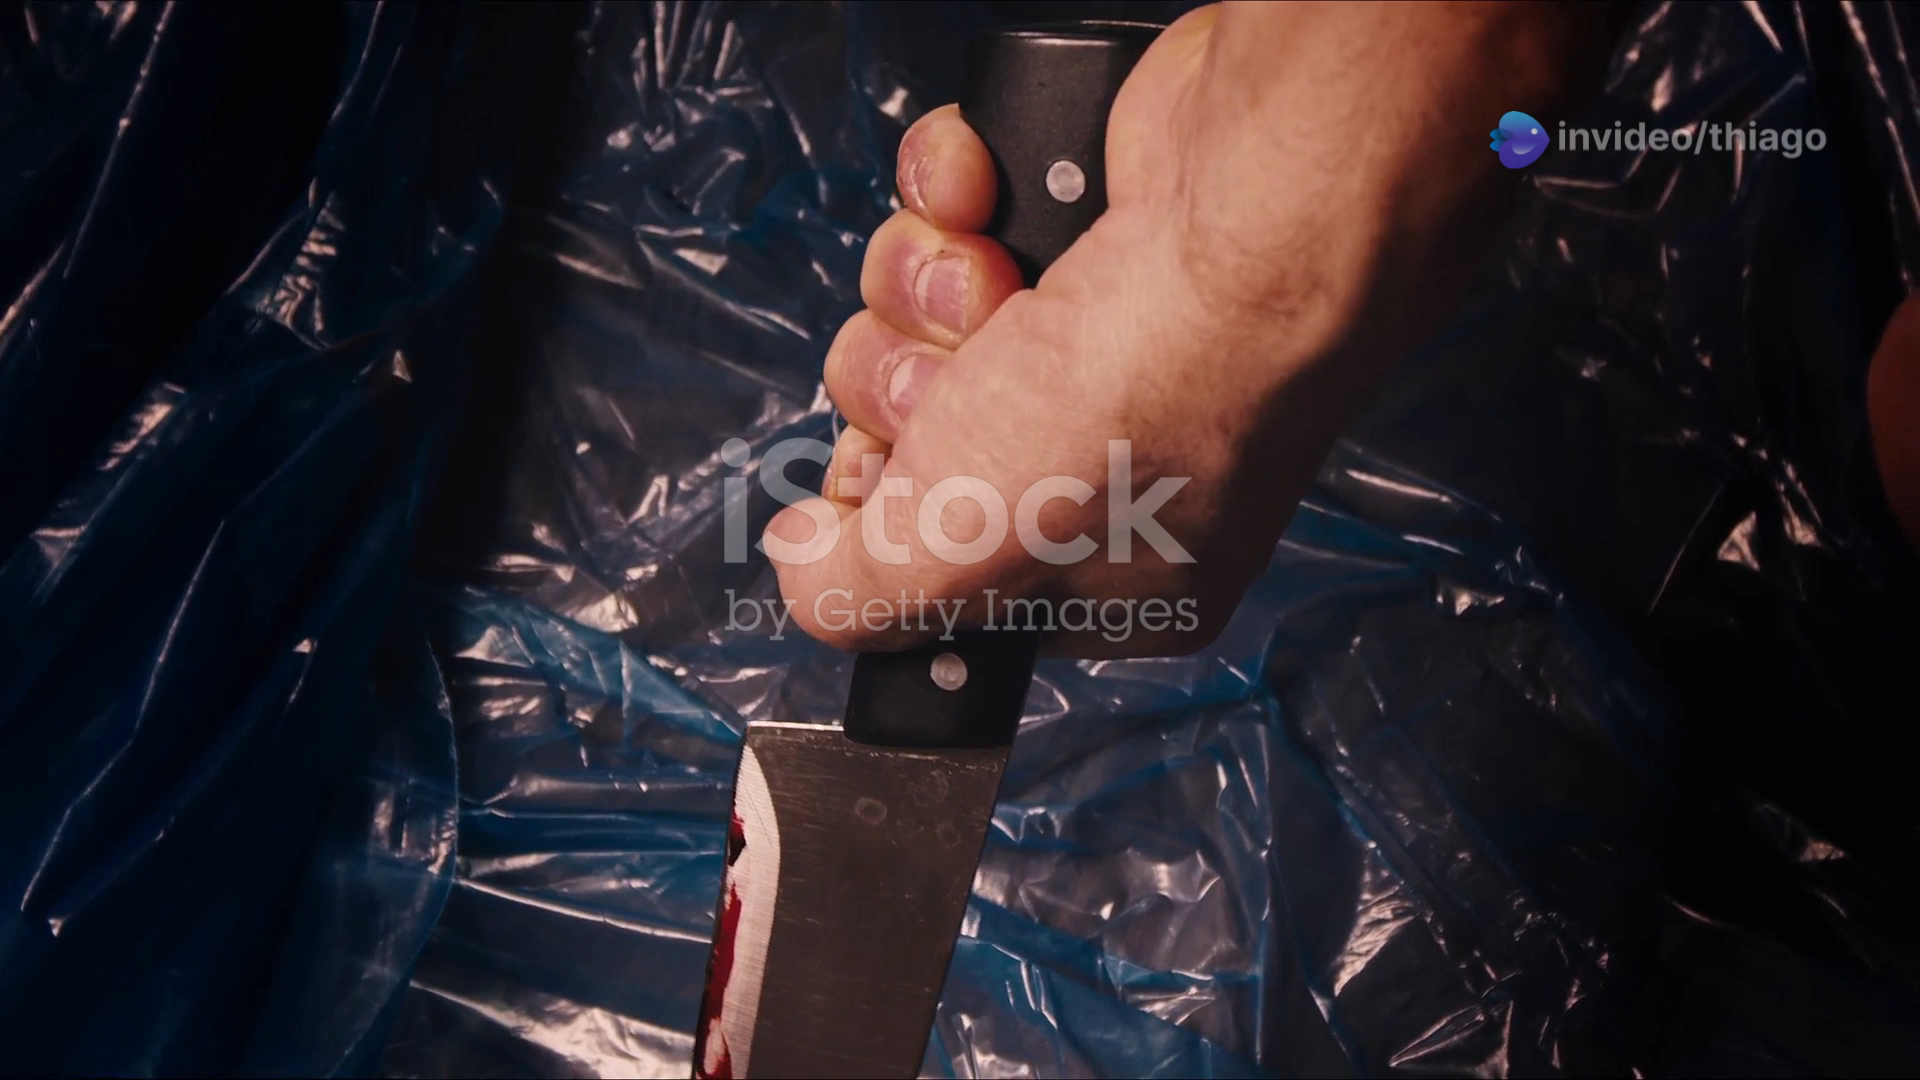cortante: (692, 719, 1010, 1080)
